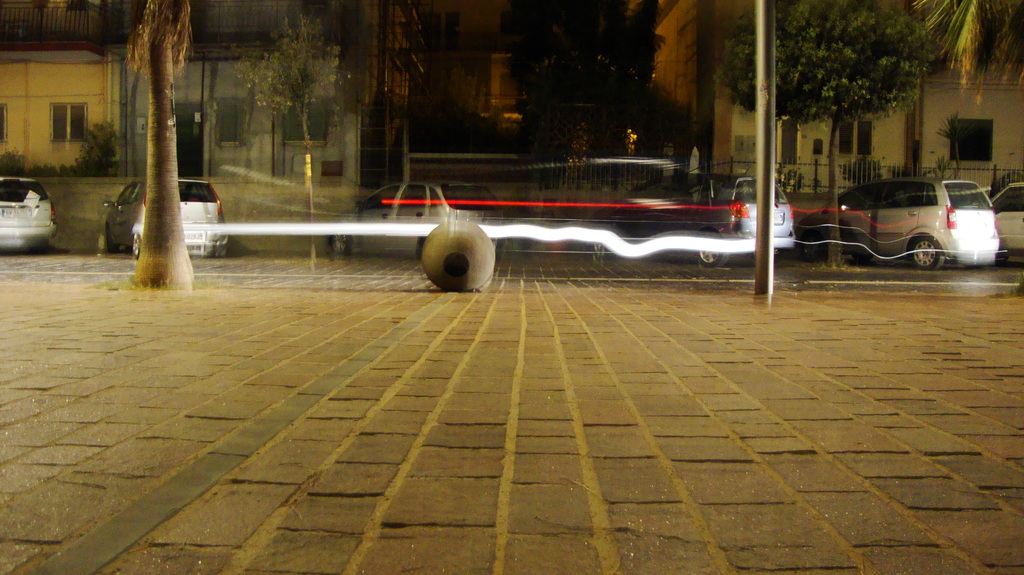Car: (791, 170, 1005, 280), (583, 174, 796, 273), (323, 174, 510, 262), (90, 173, 222, 260), (0, 177, 64, 258), (987, 184, 1023, 252)
